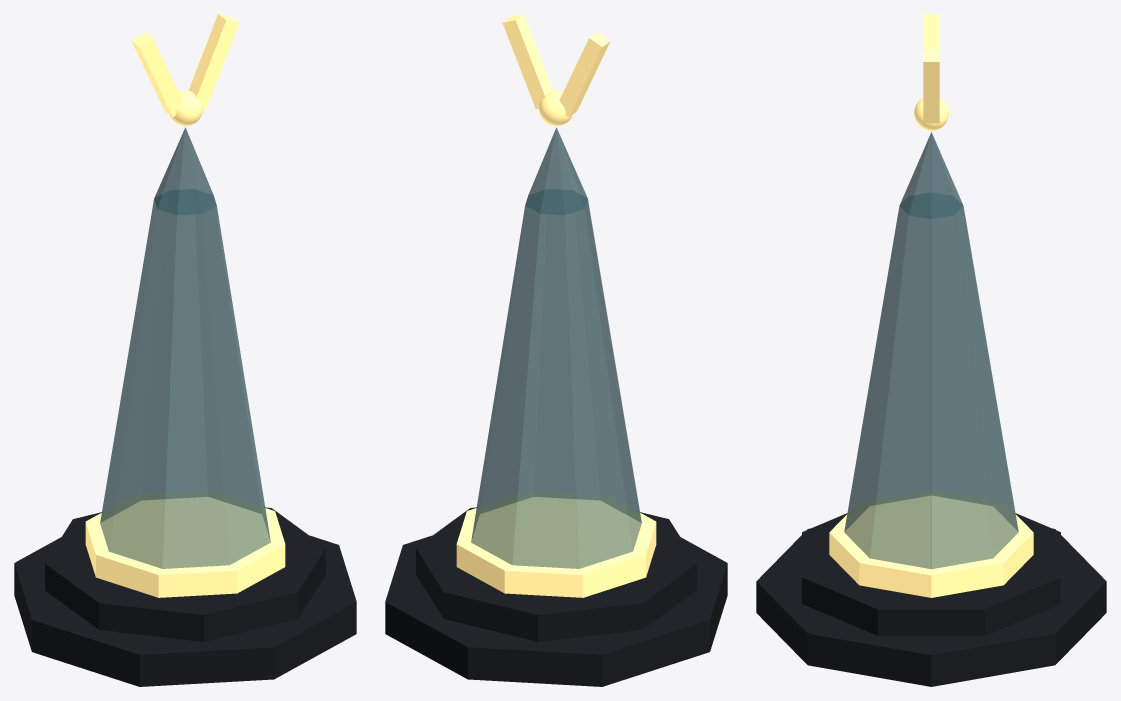
File: trophy.glb
The picture shows the model from 3 angles, left to right: view 1: azimuth 30°, elevation 25°; view 2: azimuth 150°, elevation 25°; view 3: azimuth 270°, elevation 25°; orthographic projection.
Parts seen in each view (by area): view 1: obelisk, base_lower, collar, base_upper, tip, v_right, v_left, v_joint; view 2: obelisk, base_lower, collar, base_upper, tip, v_right, v_left, v_joint; view 3: obelisk, base_lower, collar, base_upper, tip, v_right, v_left, v_joint.
Boxes of the visible parts, <box> form: obelisk: <box>100,189,270,568</box>; base_lower: <box>14,535,356,686</box>; collar: <box>85,491,285,597</box>; base_upper: <box>45,507,325,641</box>; tip: <box>154,127,216,215</box>; v_right: <box>188,14,239,109</box>; v_left: <box>131,32,182,117</box>; v_joint: <box>169,90,203,125</box>; obelisk: <box>471,189,641,568</box>; base_lower: <box>385,535,727,686</box>; collar: <box>456,491,656,597</box>; base_upper: <box>416,507,696,641</box>; tip: <box>525,127,587,215</box>; v_right: <box>502,14,553,109</box>; v_left: <box>559,32,610,117</box>; v_joint: <box>538,90,572,125</box>; obelisk: <box>844,192,1018,569</box>; base_lower: <box>756,528,1106,686</box>; collar: <box>829,489,1033,597</box>; base_upper: <box>802,513,1060,635</box>; tip: <box>899,132,963,219</box>; v_right: <box>923,49,939,123</box>; v_left: <box>923,14,939,49</box>; v_joint: <box>914,98,948,130</box>.
Bounding box in the file's own units: 0.6 × 1.1 × 0.6.
